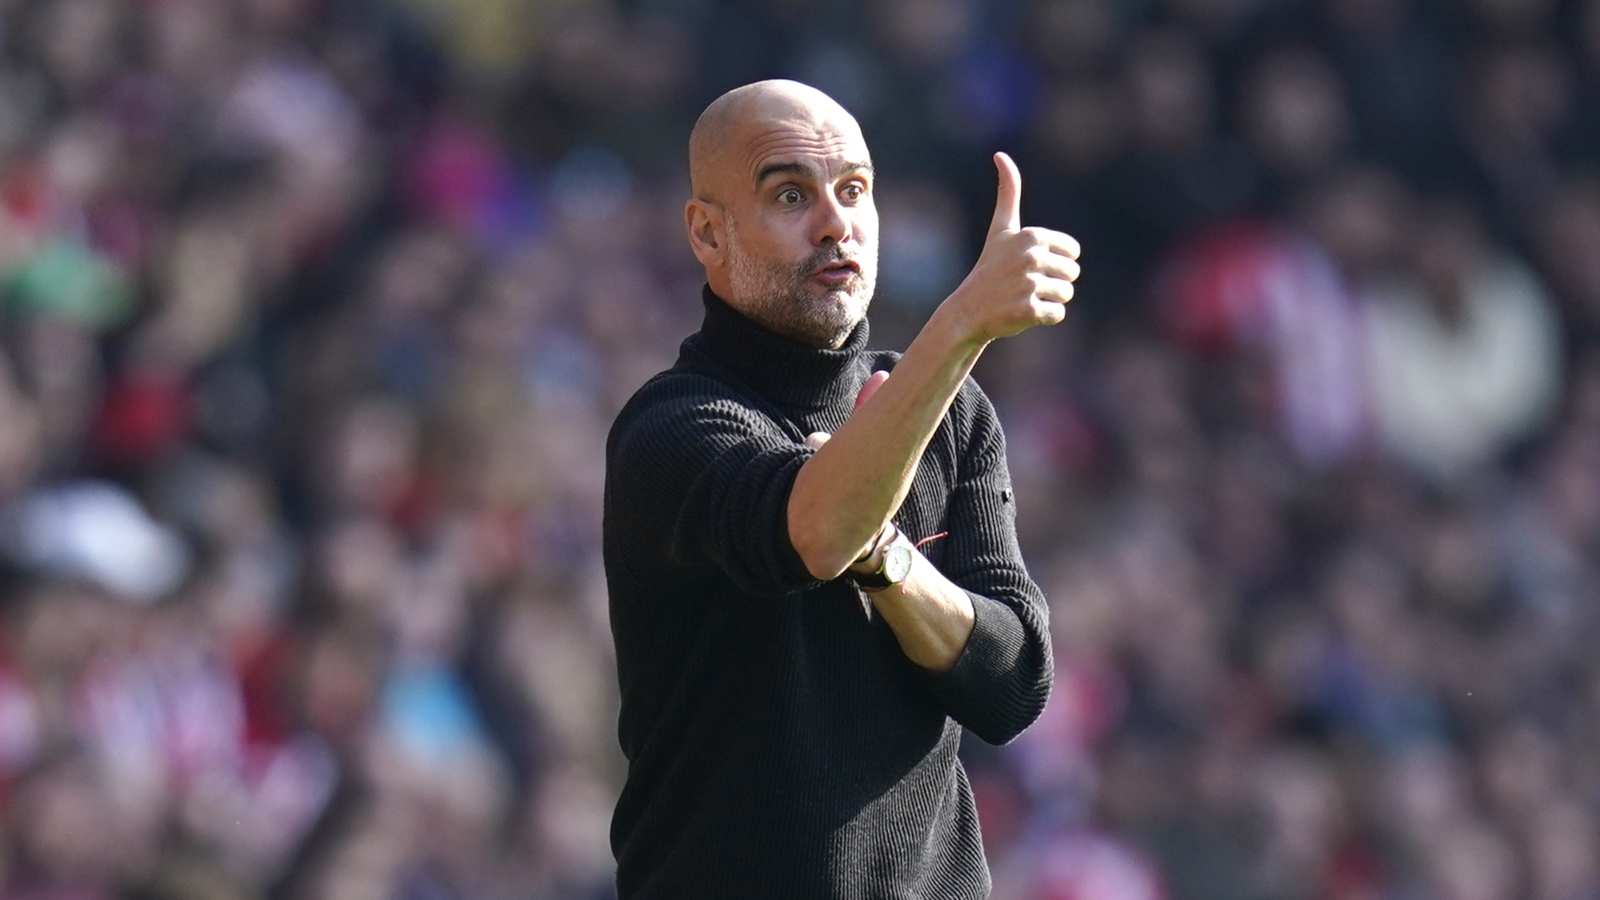thumbsUp: (954, 138, 1085, 346)
